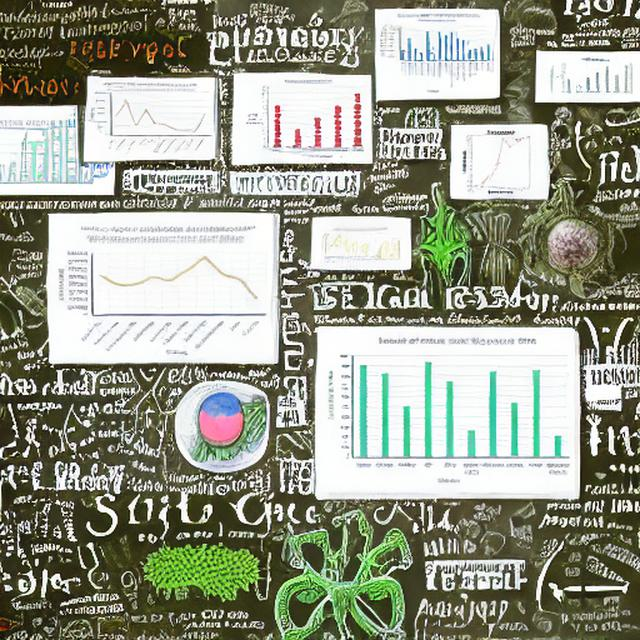Graph: (322, 333, 576, 493), (56, 232, 271, 359), (241, 77, 370, 161), (376, 11, 494, 94), (89, 81, 212, 155), (454, 127, 545, 195), (553, 58, 623, 99), (319, 230, 373, 268)
